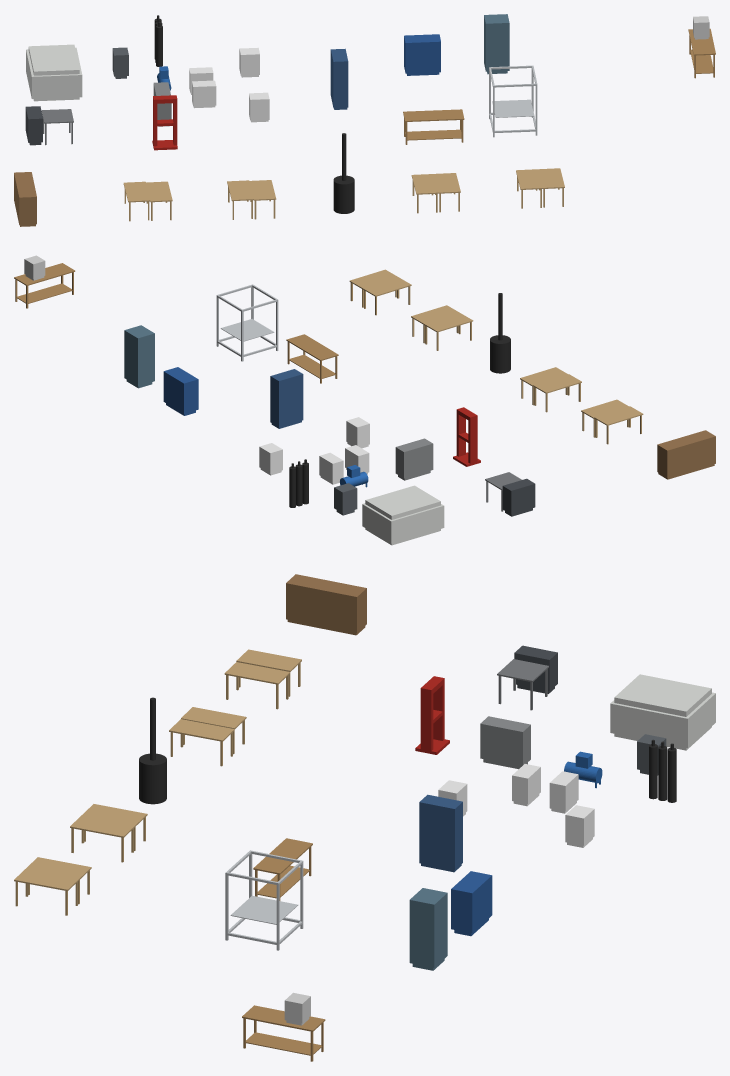
File: mobilier.glb
The picture shows the model from 3 angles, top to bottom: view 1: azimuth 30°, elevation 25°; view 2: azimuth 150°, elevation 25°; view 3: azimuth 270°, elevation 25°; orthographic projection. The views are drawn at different scales.
Visible parts, largest first — view 1: ESQ_mobilier_projet_14_laser, ESQ_mobilier_projet_26_imprimante_3d_gf, ESQ_mobilier_projet_22_tour, ESQ_mobilier_projet_23_fraiseuse, ESQ_mobilier_projet_25_etabli, ESQ_mobilier_projet_29_comptoir, ESQ_mobilier_projet_24_outillage, ESQ_mobilier_projet_7_poele, ESQ_mobilier_projet_19_presse, ESQ_mobilier_projet_27_etabli, ESQ_mobilier_projet_1_wc, ESQ_mobilier_projet_21_poste_mig (+16 smaller); view 2: ESQ_mobilier_projet_14_laser, ESQ_mobilier_projet_29_comptoir, ESQ_mobilier_projet_26_imprimante_3d_gf, ESQ_mobilier_projet_24_outillage, ESQ_mobilier_projet_23_fraiseuse, ESQ_mobilier_projet_22_tour, ESQ_mobilier_projet_18_scie_ruban, ESQ_mobilier_projet_25_etabli, ESQ_mobilier_projet_27_etabli, ESQ_mobilier_projet_19_presse, ESQ_mobilier_projet_21_poste_mig, ESQ_mobilier_projet_7_poele (+15 smaller); view 3: ESQ_mobilier_projet_14_laser, ESQ_mobilier_projet_29_comptoir, ESQ_mobilier_projet_24_outillage, ESQ_mobilier_projet_26_imprimante_3d_gf, ESQ_mobilier_projet_23_fraiseuse, ESQ_mobilier_projet_18_scie_ruban, ESQ_mobilier_projet_22_tour, ESQ_mobilier_projet_27_etabli, ESQ_mobilier_projet_19_presse, ESQ_mobilier_projet_25_etabli, ESQ_mobilier_projet_7_poele, ESQ_mobilier_projet_16_bouteilles_gaz (+15 smaller).
Boxes of the visible parts, x1=… form: ESQ_mobilier_projet_14_laser: x1=26, y1=44, x2=82, y2=101; ESQ_mobilier_projet_26_imprimante_3d_gf: x1=489, y1=65, x2=537, y2=137; ESQ_mobilier_projet_22_tour: x1=404, y1=34, x2=440, y2=75; ESQ_mobilier_projet_23_fraiseuse: x1=484, y1=14, x2=509, y2=74; ESQ_mobilier_projet_25_etabli: x1=403, y1=109, x2=464, y2=144; ESQ_mobilier_projet_29_comptoir: x1=14, y1=172, x2=36, y2=226; ESQ_mobilier_projet_24_outillage: x1=330, y1=48, x2=348, y2=109; ESQ_mobilier_projet_7_poele: x1=333, y1=133, x2=354, y2=213; ESQ_mobilier_projet_19_presse: x1=152, y1=95, x2=177, y2=150; ESQ_mobilier_projet_27_etabli: x1=688, y1=28, x2=715, y2=78; ESQ_mobilier_projet_1_wc: x1=192, y1=80, x2=216, y2=108; ESQ_mobilier_projet_21_poste_mig: x1=25, y1=106, x2=42, y2=145; ESQ_mobilier_projet_14_laser: x1=362, y1=485, x2=444, y2=545; ESQ_mobilier_projet_29_comptoir: x1=657, y1=430, x2=715, y2=479; ESQ_mobilier_projet_26_imprimante_3d_gf: x1=216, y1=284, x2=278, y2=361; ESQ_mobilier_projet_24_outillage: x1=270, y1=369, x2=303, y2=428; ESQ_mobilier_projet_23_fraiseuse: x1=124, y1=325, x2=154, y2=388; ESQ_mobilier_projet_22_tour: x1=163, y1=367, x2=198, y2=415; ESQ_mobilier_projet_18_scie_ruban: x1=395, y1=438, x2=433, y2=480; ESQ_mobilier_projet_25_etabli: x1=286, y1=334, x2=338, y2=383; ESQ_mobilier_projet_27_etabli: x1=14, y1=263, x2=75, y2=308; ESQ_mobilier_projet_19_presse: x1=453, y1=407, x2=480, y2=466; ESQ_mobilier_projet_21_poste_mig: x1=502, y1=478, x2=535, y2=516; ESQ_mobilier_projet_7_poele: x1=490, y1=293, x2=510, y2=373; ESQ_mobilier_projet_14_laser: x1=610, y1=674, x2=715, y2=750; ESQ_mobilier_projet_29_comptoir: x1=286, y1=574, x2=366, y2=635; ESQ_mobilier_projet_24_outillage: x1=419, y1=794, x2=462, y2=872; ESQ_mobilier_projet_26_imprimante_3d_gf: x1=225, y1=850, x2=303, y2=950; ESQ_mobilier_projet_23_fraiseuse: x1=409, y1=888, x2=447, y2=970; ESQ_mobilier_projet_18_scie_ruban: x1=480, y1=716, x2=530, y2=769; ESQ_mobilier_projet_22_tour: x1=451, y1=871, x2=492, y2=936; ESQ_mobilier_projet_27_etabli: x1=242, y1=1005, x2=325, y2=1061; ESQ_mobilier_projet_19_presse: x1=415, y1=676, x2=449, y2=754; ESQ_mobilier_projet_25_etabli: x1=253, y1=838, x2=312, y2=900; ESQ_mobilier_projet_7_poele: x1=139, y1=697, x2=166, y2=804; ESQ_mobilier_projet_16_bouteilles_gaz: x1=649, y1=739, x2=676, y2=802.
Size of the model in its own units: 27.08 by 2.8 by 17.91.
